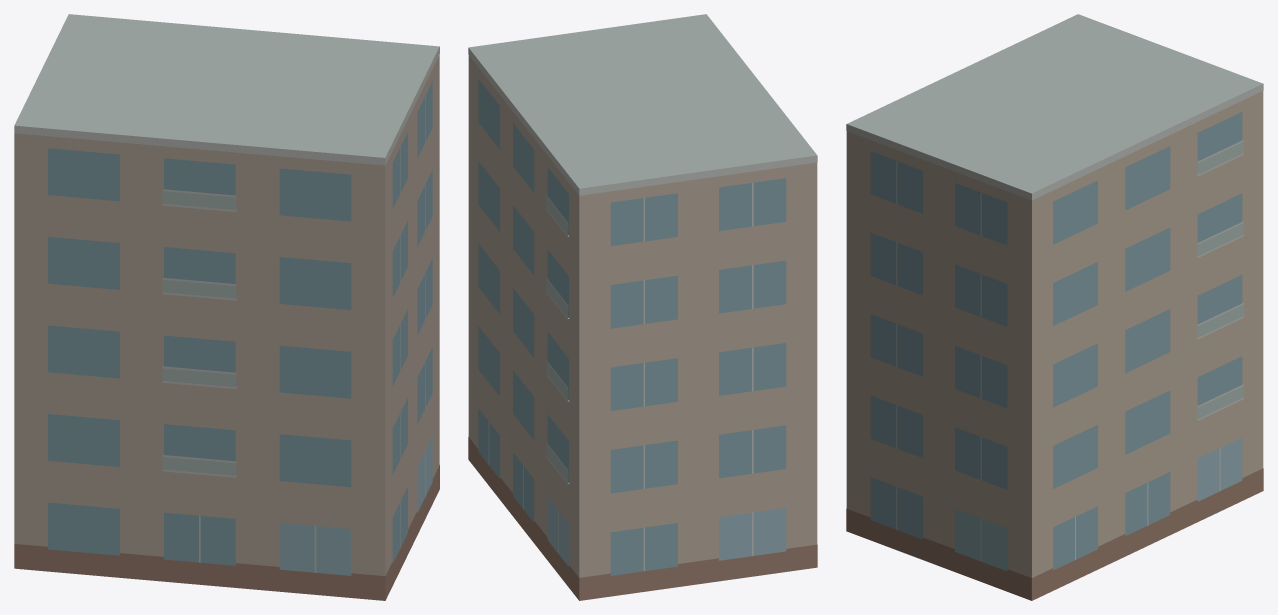
The model's file is survey-upis-32980298.glb.
3 renders of one model, left to right at view 1: azimuth 30°, elevation 25°; view 2: azimuth 150°, elevation 25°; view 3: azimuth 270°, elevation 25°, orthographic. The views are drawn at different scales.
Visible parts, largest first — view 1: survey-upis-32980298.tmp; view 2: survey-upis-32980298.tmp; view 3: survey-upis-32980298.tmp.
Boxes of the visible parts, x1,y1,x2,y2 form: survey-upis-32980298.tmp: (14, 14, 439, 600); survey-upis-32980298.tmp: (468, 14, 817, 600); survey-upis-32980298.tmp: (846, 14, 1263, 600).
Bounding box in the file's own units: 13.44 × 14.2 × 13.18.
